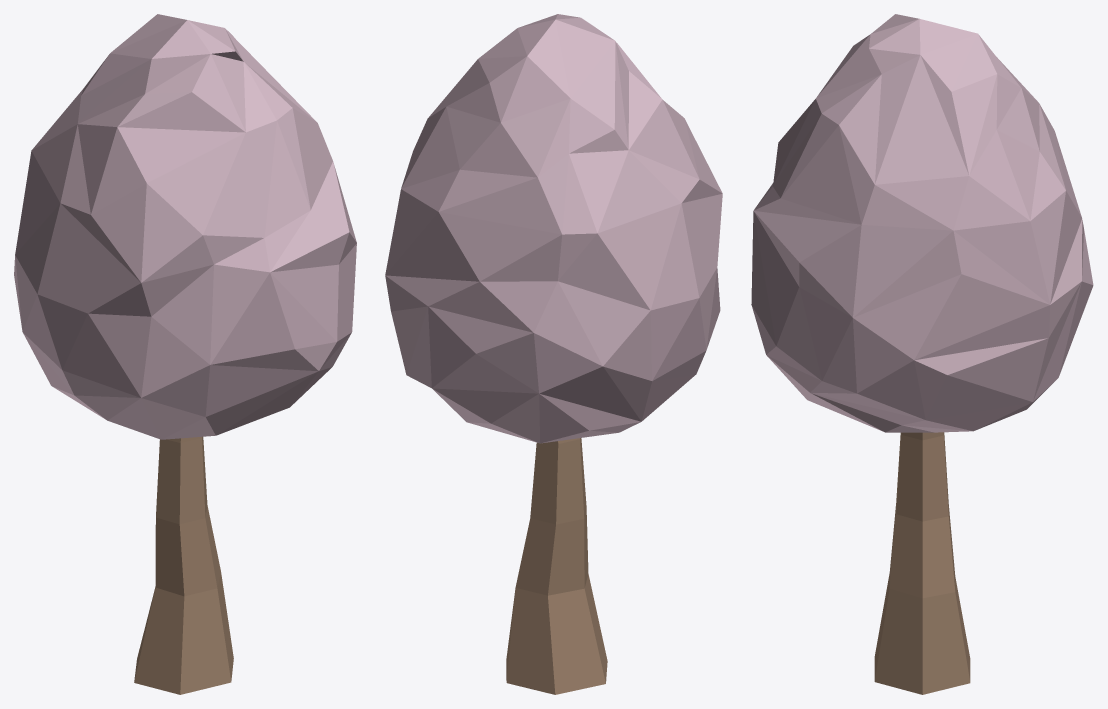
The model's file is tree3.fbx.
3 renders of one model, left to right at view 1: azimuth 30°, elevation 25°; view 2: azimuth 150°, elevation 25°; view 3: azimuth 270°, elevation 25°, orthographic.
Visible parts, largest first — view 1: leaf, tunk; view 2: leaf, tunk; view 3: leaf, tunk.
Part boxes in pixels (bbox=[...]): leaf: bbox=[14, 14, 356, 439]; tunk: bbox=[134, 436, 233, 694]; leaf: bbox=[385, 14, 722, 443]; tunk: bbox=[506, 438, 607, 694]; leaf: bbox=[751, 14, 1093, 432]; tunk: bbox=[874, 432, 970, 694].
Size of the model in its own units: 0.0419 by 0.0892 by 0.0424.
